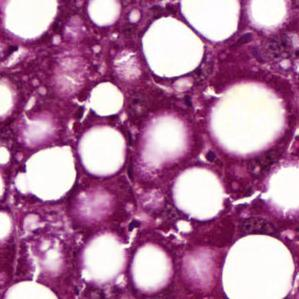steatosis: (223, 235, 295, 299), (141, 16, 203, 78)
